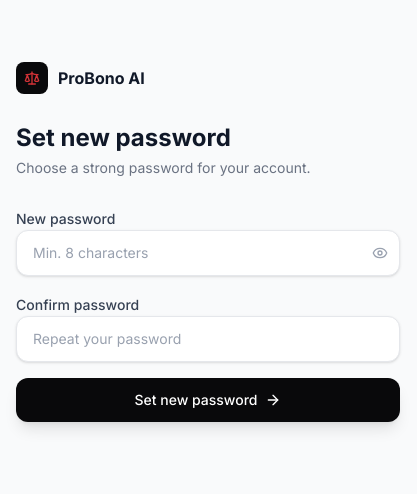
it: ResetPasswordPage › shows error from API on failed reset
The image size is (417, 494).
Type "NewPass99!" into the password field with placeholder "Min. 8 characters" at (208, 253), box x1=16 y1=230 x2=400 y2=276
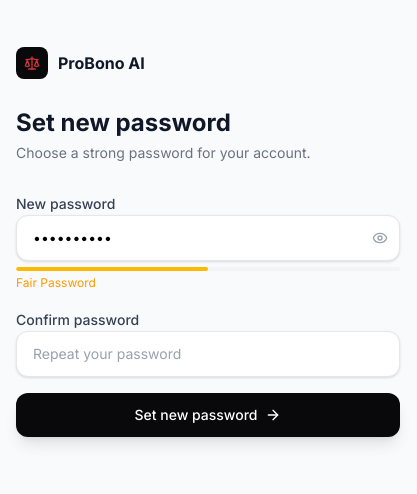
Type "NewPass99!" into the password field with placeholder "Repeat your password" at (208, 354), box x1=16 y1=331 x2=400 y2=377
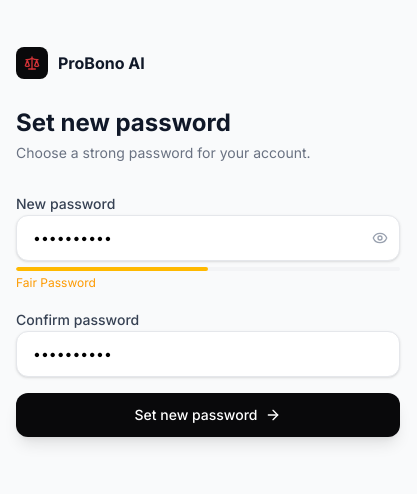
Click the button "Set new password" at (208, 415), box x1=16 y1=393 x2=400 y2=437
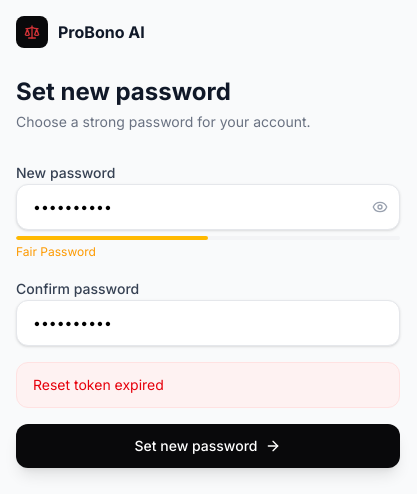
Expected: the text "Reset token expired" is shown, x1=16 y1=362 x2=400 y2=408
